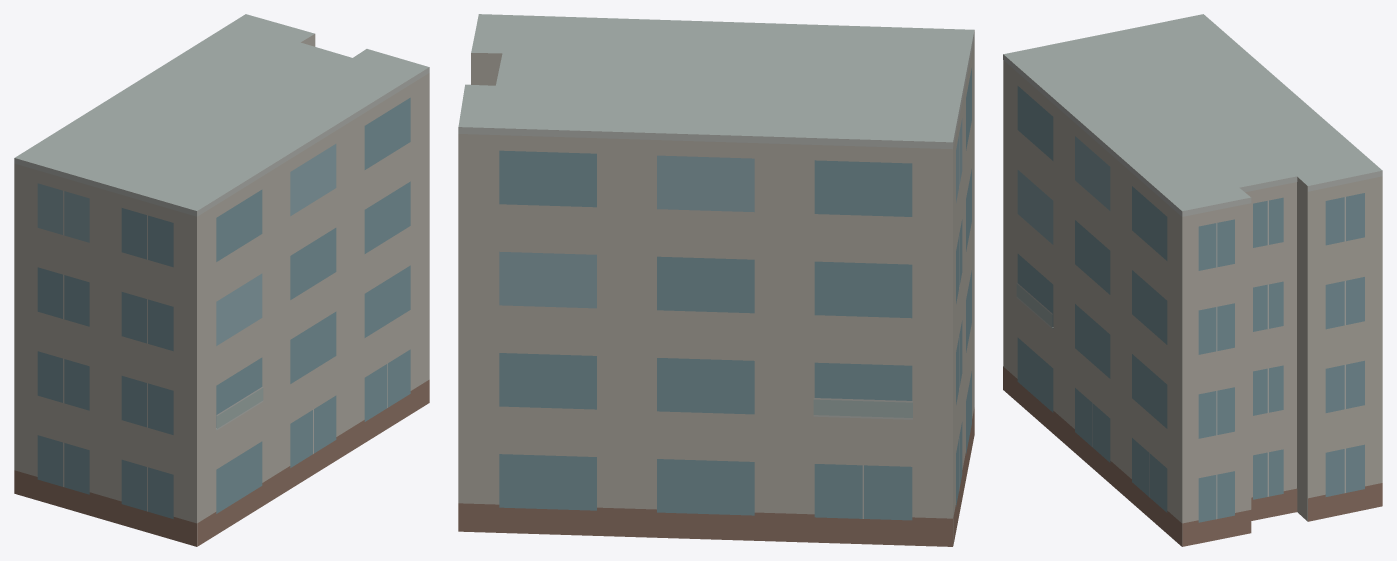
File: survey-upis-33007946.glb
3 renders of one model, left to right at view 1: azimuth 30°, elevation 25°; view 2: azimuth 150°, elevation 25°; view 3: azimuth 270°, elevation 25°, orthographic. The views are drawn at different scales.
Visible parts, largest first — view 1: survey-upis-33007946.tmp; view 2: survey-upis-33007946.tmp; view 3: survey-upis-33007946.tmp.
Part boxes in pixels (<box>): survey-upis-33007946.tmp: <box>14,14,429,546</box>; survey-upis-33007946.tmp: <box>458,14,974,546</box>; survey-upis-33007946.tmp: <box>1003,14,1382,546</box>.
Bounding box in the file's own units: 18.16 × 14.4 × 14.76.
